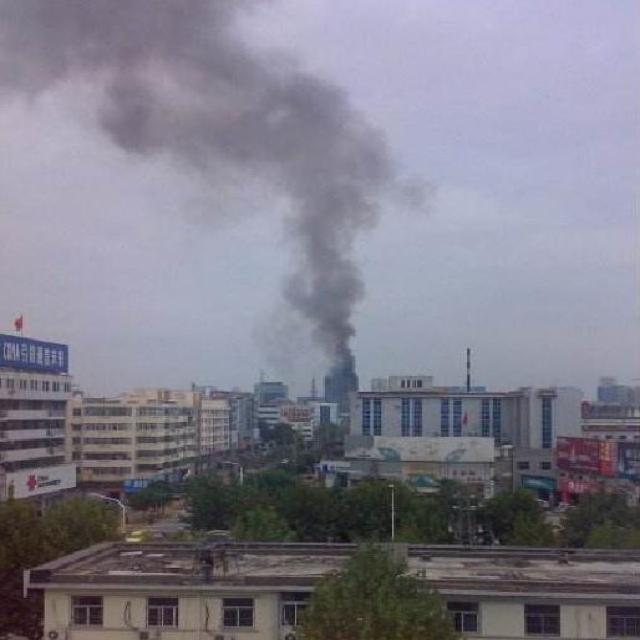Smoke: (6, 0, 442, 365)
